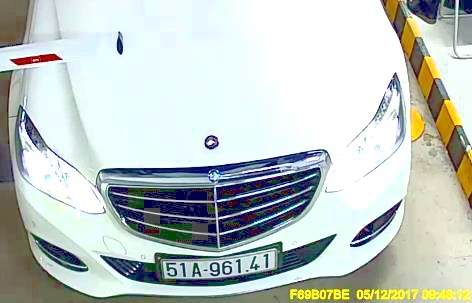plate: (157, 252, 277, 281)
